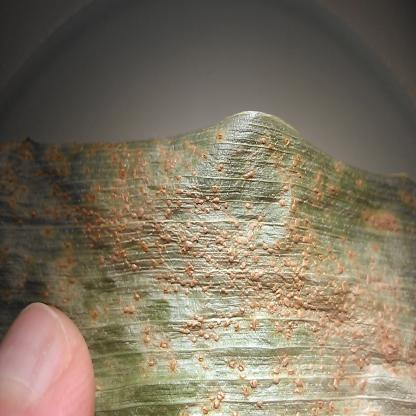Corn rust leaf: (80, 124, 416, 416)
